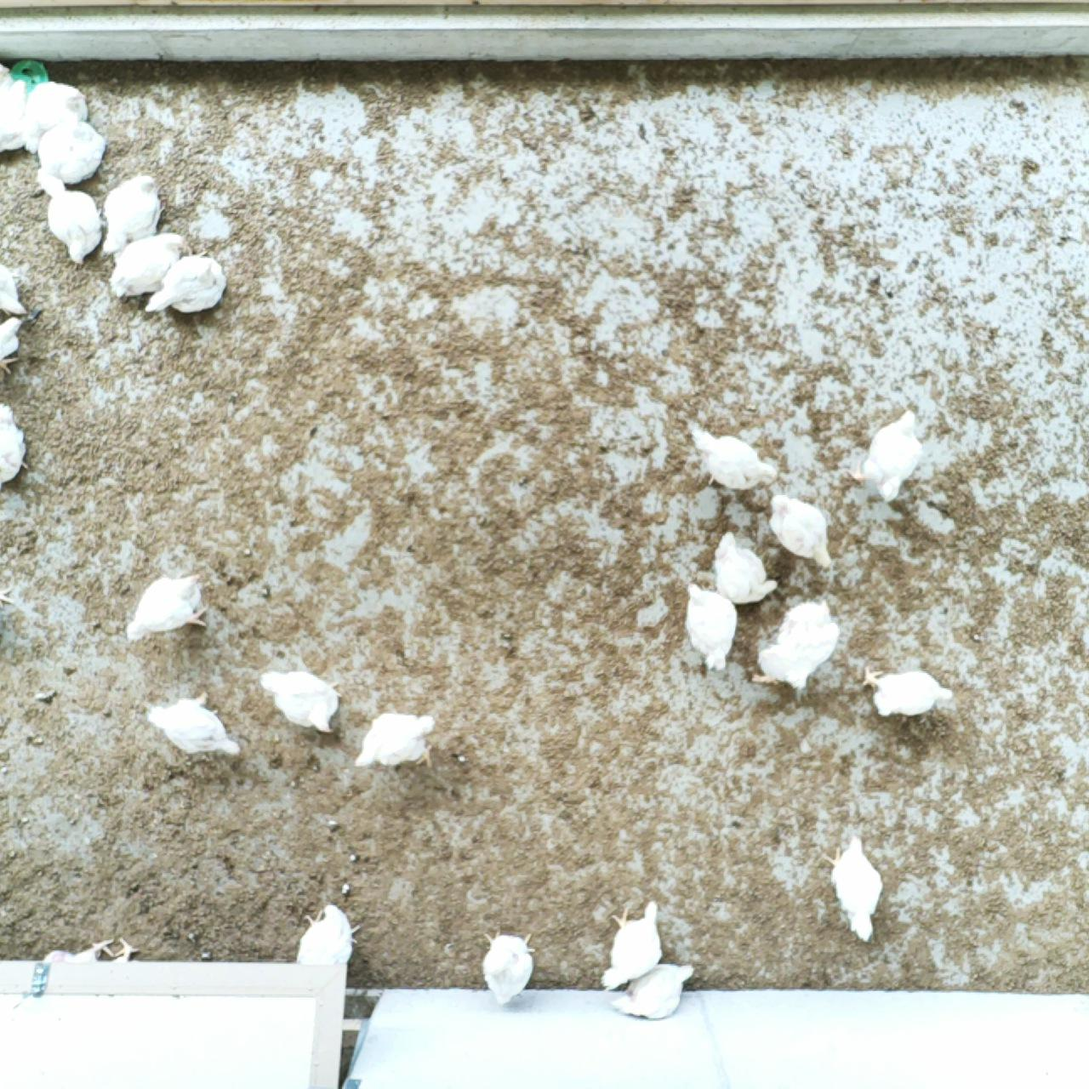chicken: (746, 600, 843, 693), (851, 408, 923, 503), (823, 834, 885, 941), (36, 167, 103, 266), (683, 426, 780, 493), (596, 898, 667, 987), (258, 661, 344, 733), (144, 248, 229, 319), (106, 232, 196, 299), (147, 691, 237, 757), (123, 570, 211, 637), (102, 174, 166, 261), (347, 709, 437, 770), (681, 581, 741, 672), (708, 527, 778, 605), (763, 495, 834, 570), (20, 78, 89, 154), (611, 959, 694, 1019), (34, 120, 104, 190), (292, 900, 361, 967), (862, 666, 954, 716), (479, 924, 535, 1006), (0, 401, 34, 485), (0, 63, 25, 157), (44, 936, 116, 967), (0, 316, 27, 377), (0, 263, 26, 318)
